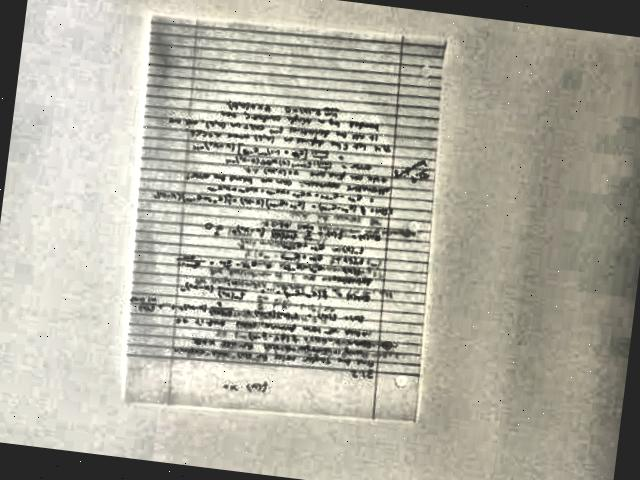Paper: (95, 4, 471, 426)
